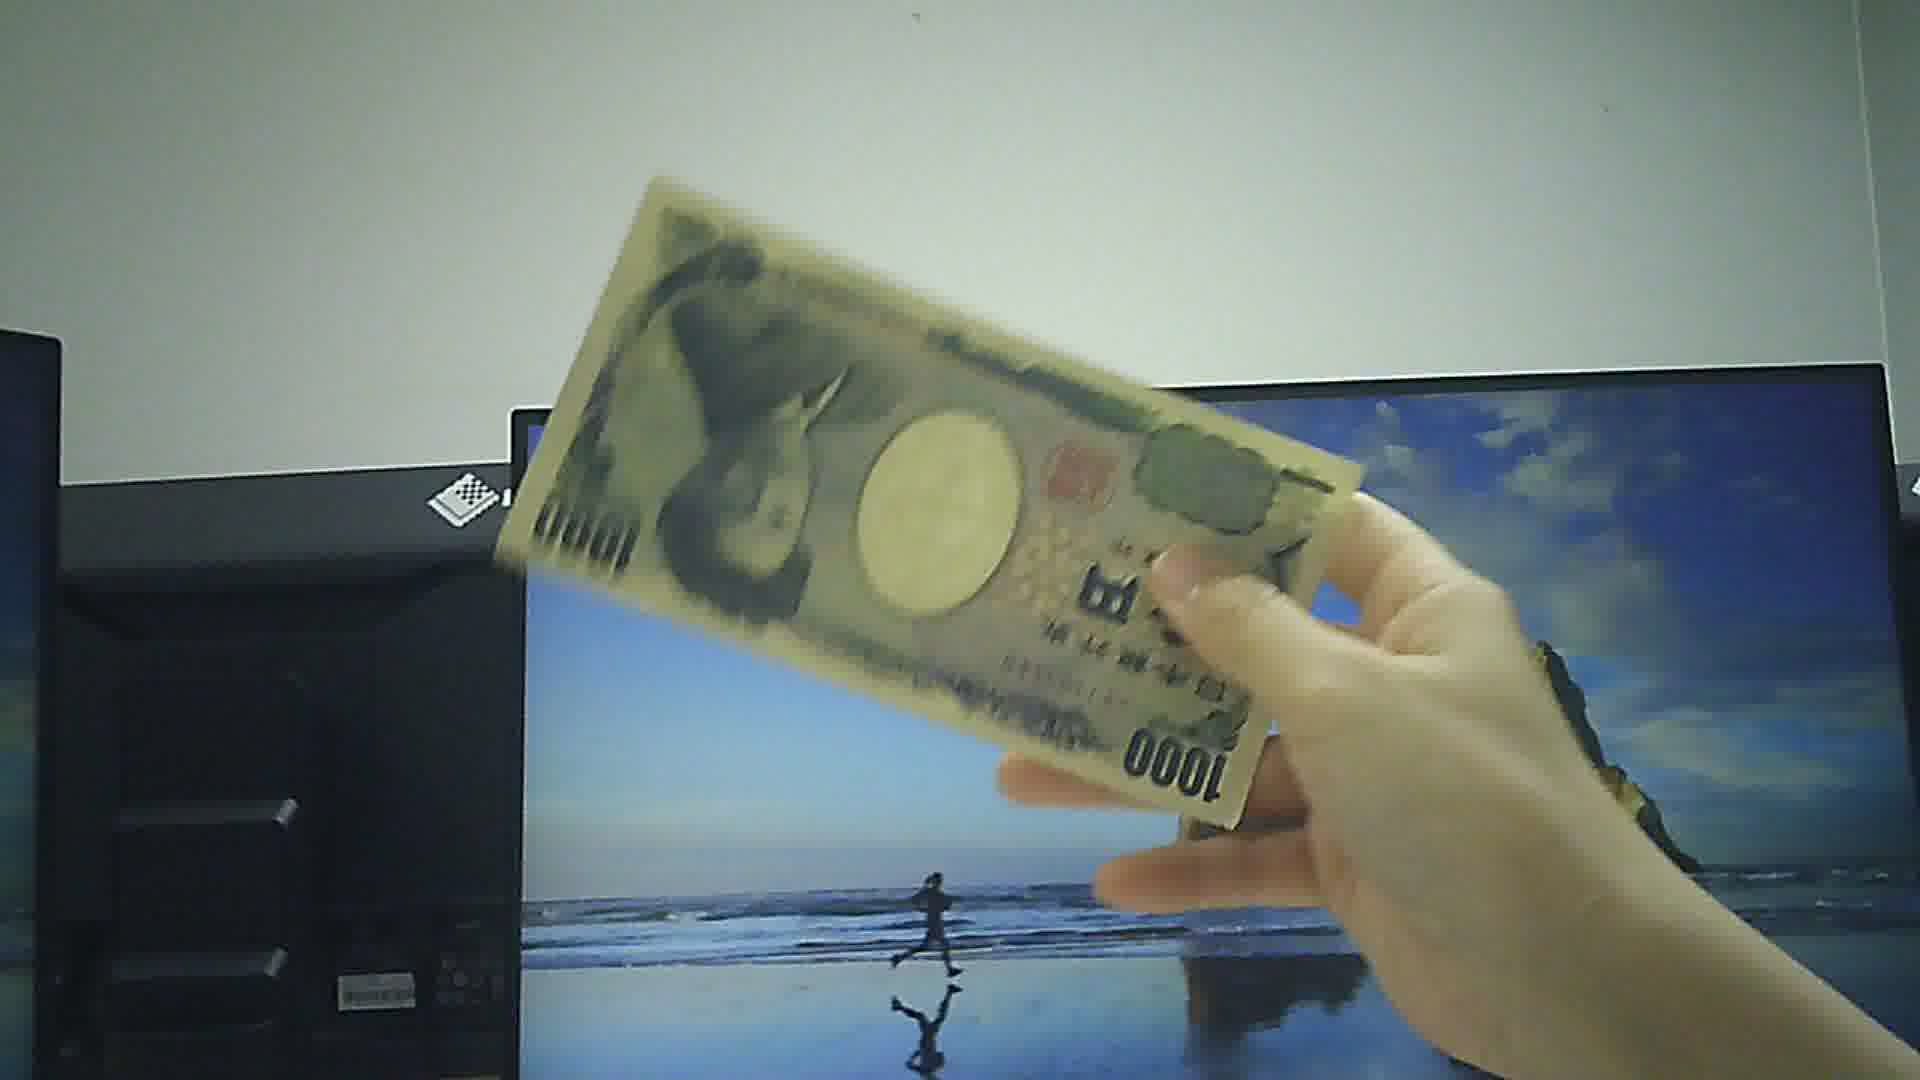1,000 Yen: (501, 174, 1371, 843)
